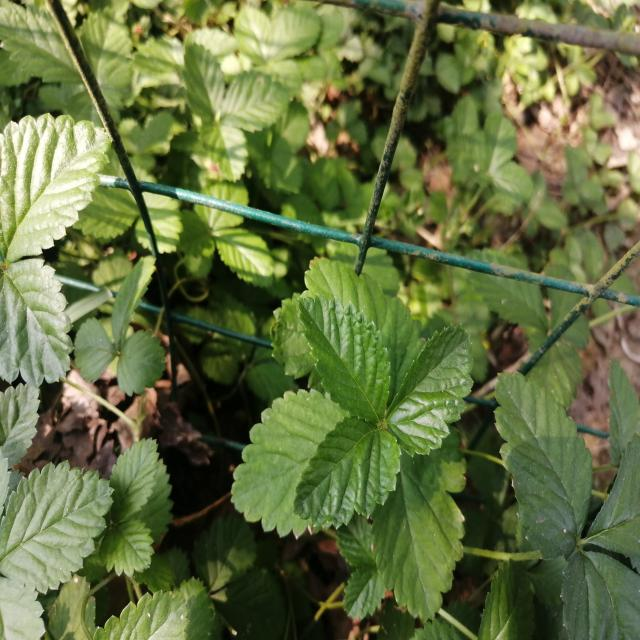Mock_strawberry: (296, 288, 469, 542)
